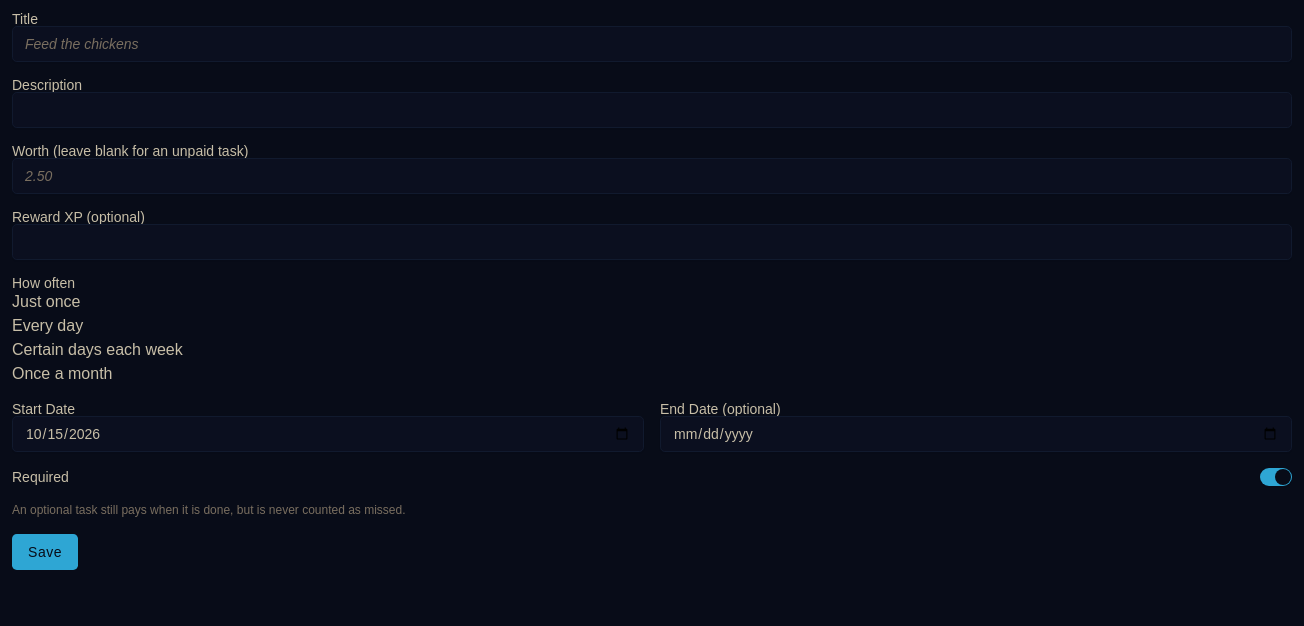
UpkeepTaskForm › shows an error and does not submit an unparseable amount
Type "Dishes" into the field labelled "Title" at (652, 44), box [12,26,1292,62]
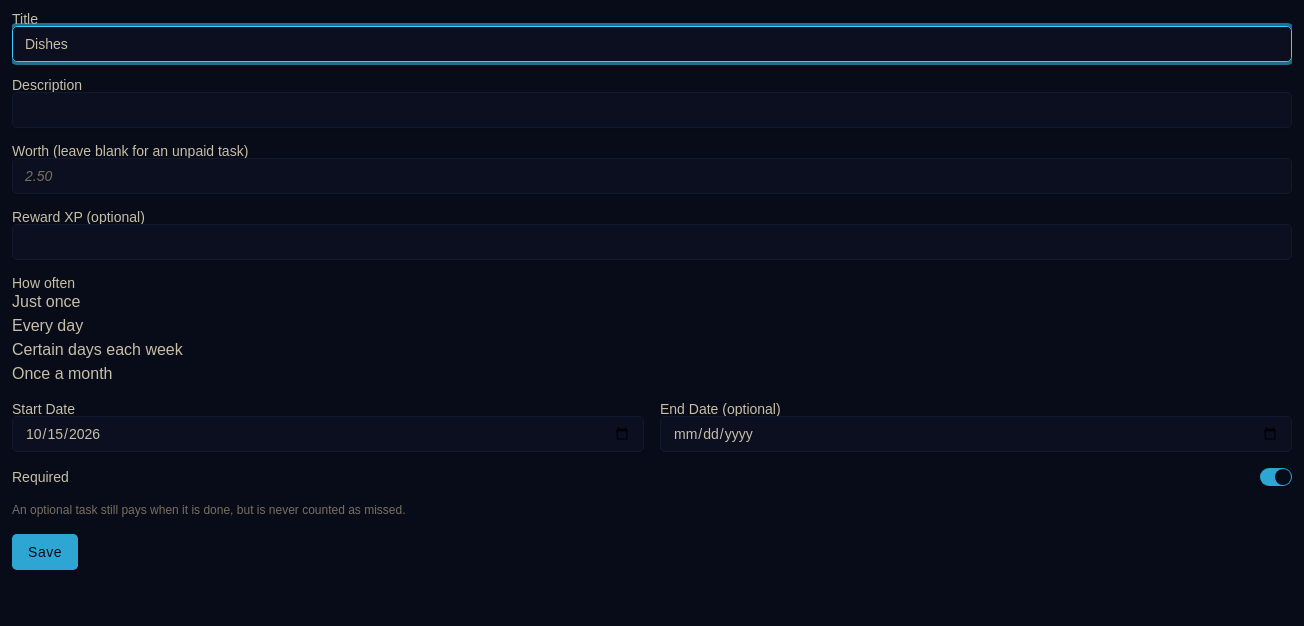
Type "lots" into the field labelled "Worth (leave blank for an unpaid task)" at (652, 176), box [12,158,1292,194]
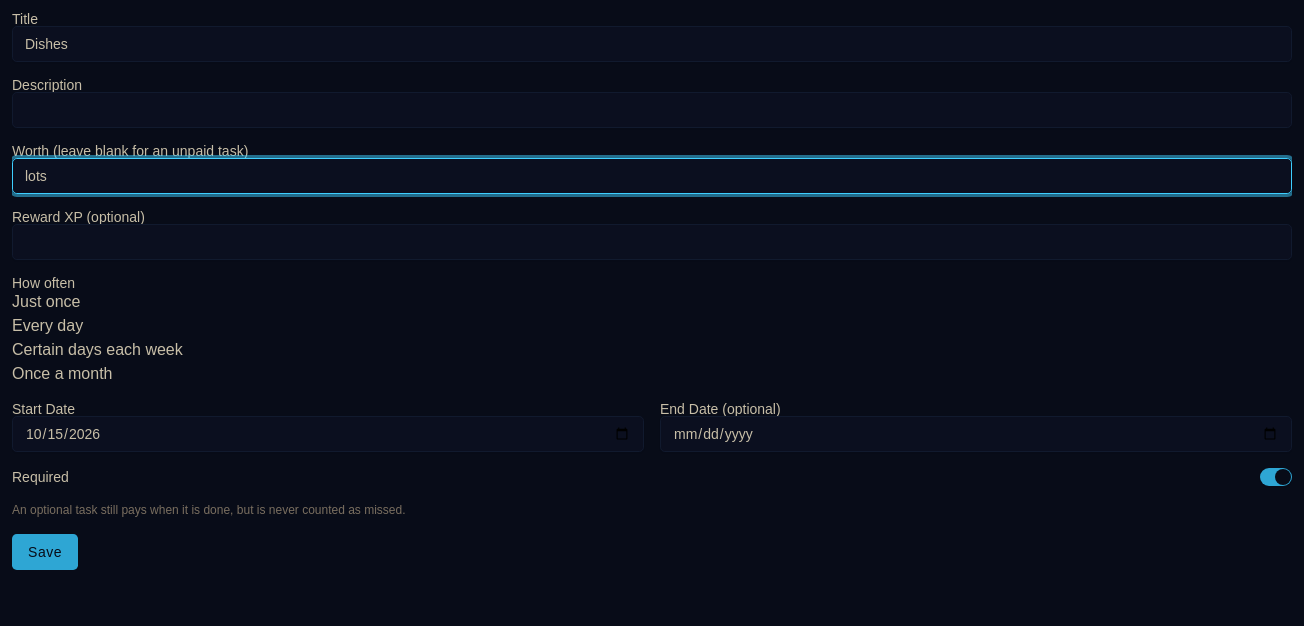
Click the button "Save" at (45, 552), box [12,534,78,570]
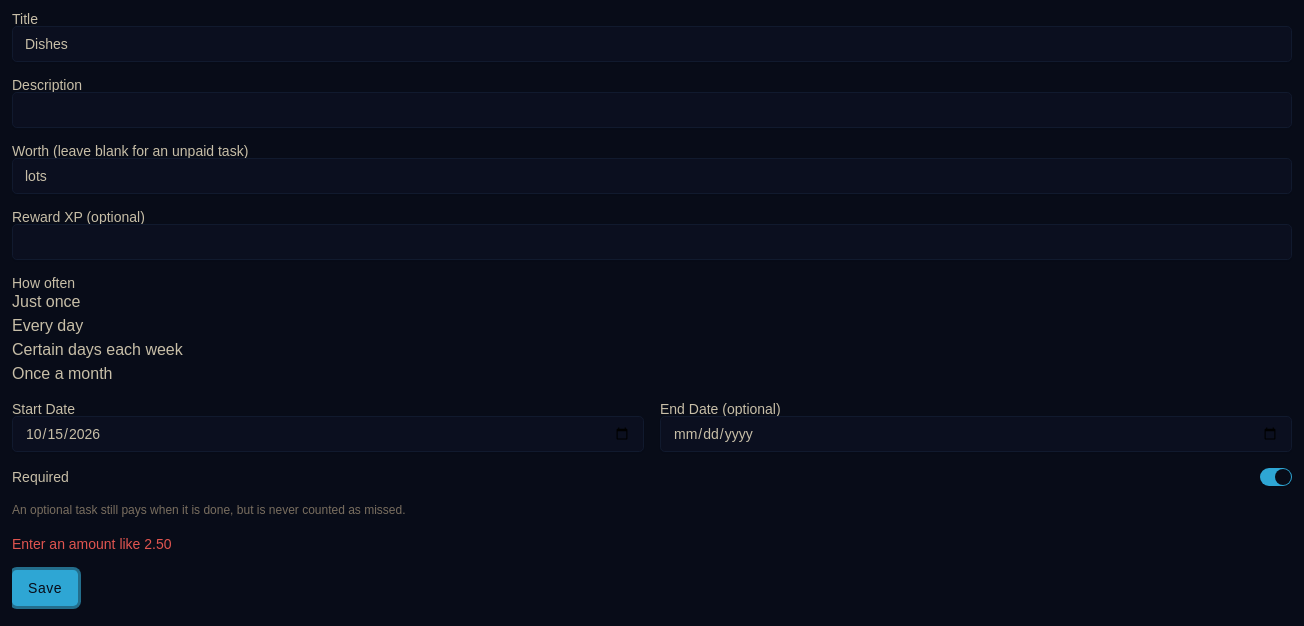
Expected: the text "Enter an amount like 2.50" is shown, [12,536,172,552]
